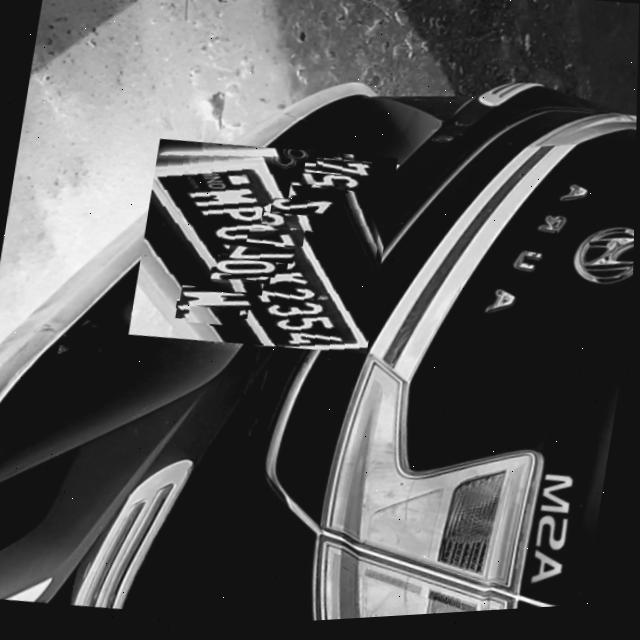0: (215, 255, 278, 284)
2: (270, 195, 334, 224)
3: (288, 186, 346, 212)
4: (314, 159, 372, 186)
5: (300, 173, 360, 198)
7: (227, 242, 296, 270)
C: (246, 227, 306, 253)
IND: (188, 304, 241, 331)
Indian_registered: (153, 157, 368, 353)
K: (261, 213, 322, 240)
M: (179, 284, 254, 316)
P: (195, 273, 265, 302)
